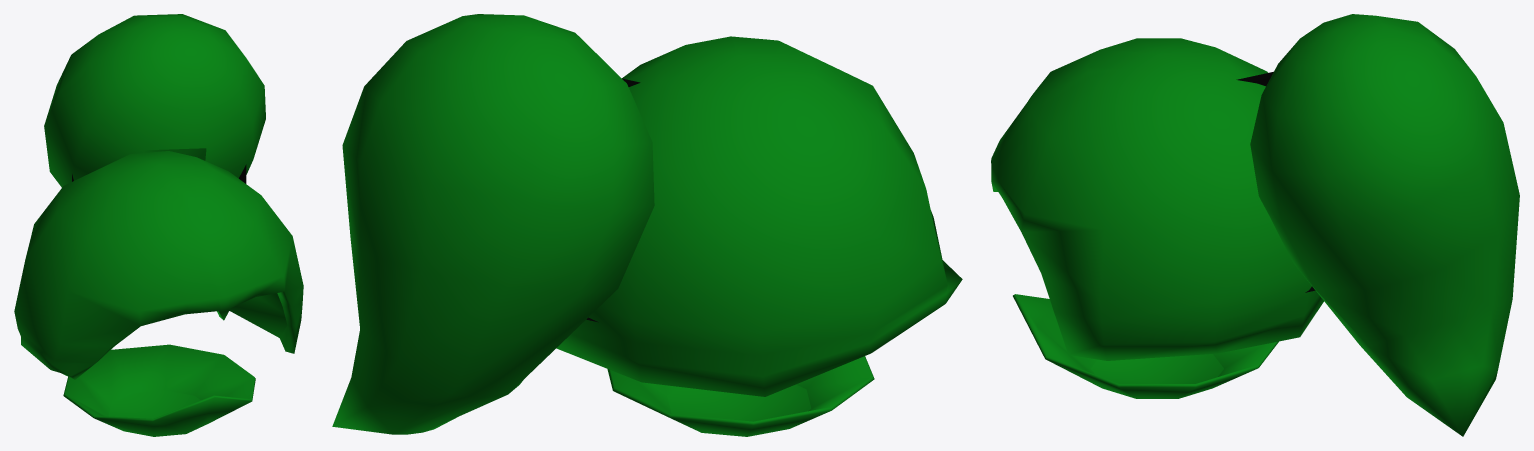
Rendered from minji.gltf.
3 views of the same model, side by side, from view 1: azimuth 30°, elevation 25°; view 2: azimuth 150°, elevation 25°; view 3: azimuth 270°, elevation 25° (orthographic). The views are drawn at different scales.
Parts seen in each view (by area): view 1: Sphere; view 2: Sphere; view 3: Sphere.
Part boxes in pixels (left/top/right/bottom): Sphere: left=14, top=14, right=303, bottom=436; Sphere: left=332, top=14, right=962, bottom=436; Sphere: left=991, top=14, right=1519, bottom=436.
Bounding box in the file's own units: 0.7681 × 0.7661 × 0.8989.
